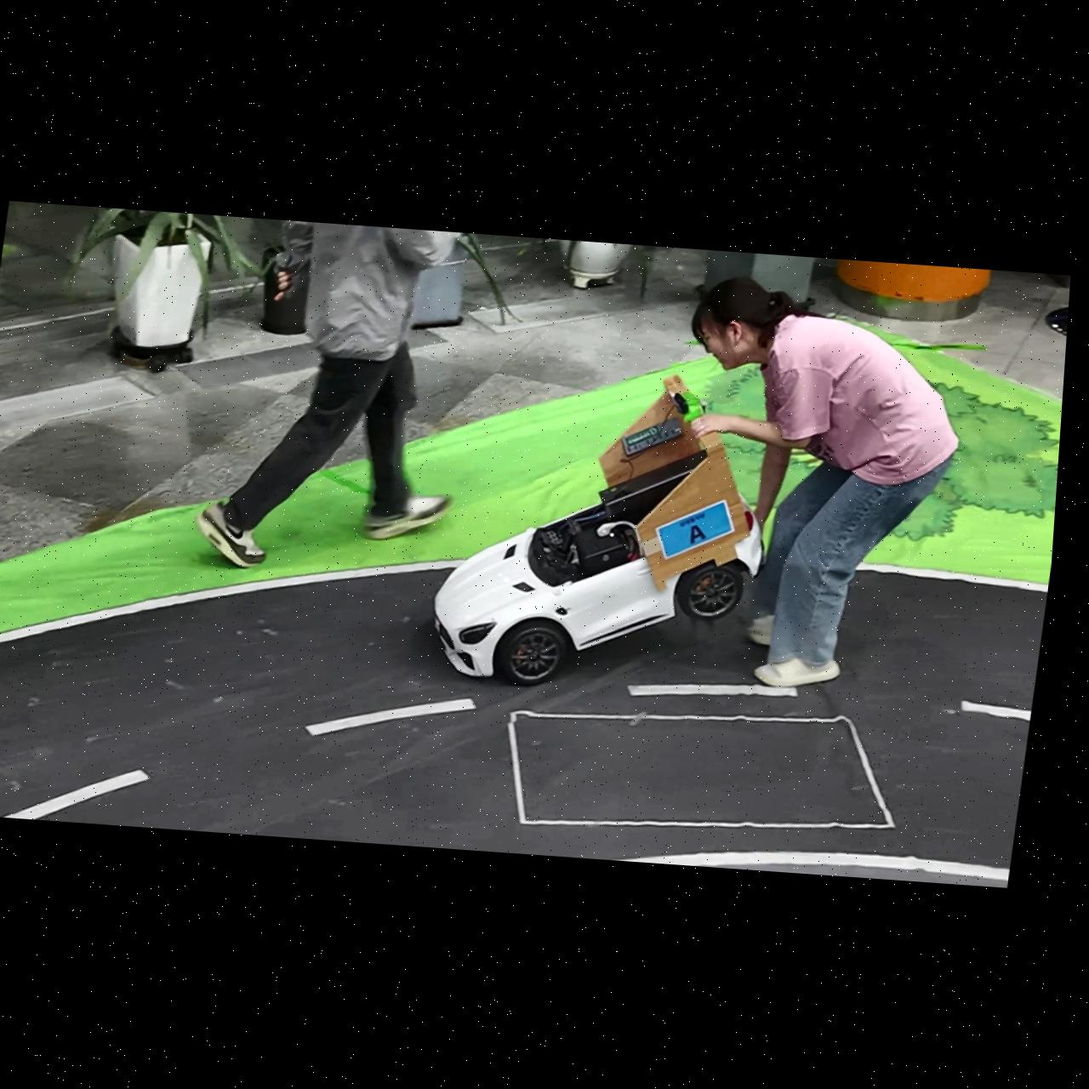broken_line: (4, 770, 150, 819), (306, 698, 475, 736), (628, 685, 797, 697), (961, 701, 1031, 720)
